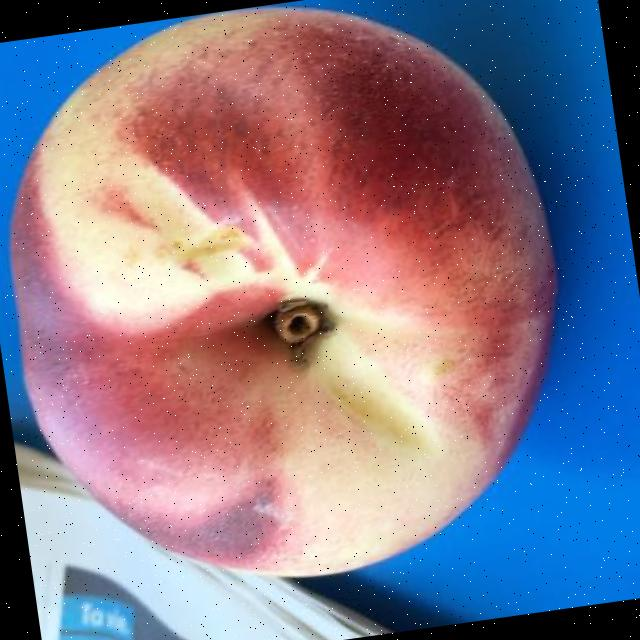peach: (10, 11, 549, 581)
